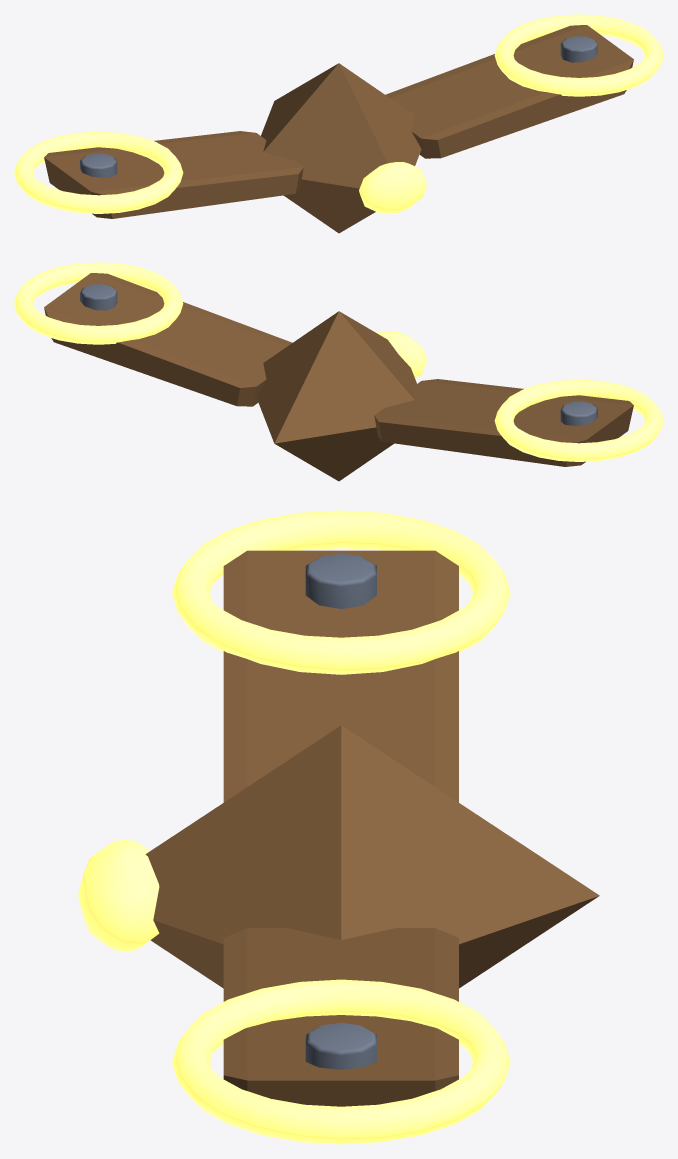
Rendered from Sentinel-Drone-v3.0.0.glb.
3 views of the same model, one above another, from view 1: azimuth 30°, elevation 25°; view 2: azimuth 150°, elevation 25°; view 3: azimuth 270°, elevation 25° (orthographic). The views are drawn at different scales.
Visible parts, largest first — view 1: core, wingL, wingR, rotorR, rotorL, eye, rotorHubL, rotorHubR; view 2: core, wingL, wingR, rotorR, rotorL, eye, rotorHubL, rotorHubR; view 3: core, wingR, wingL, rotorL, rotorR, eye, rotorHubR, rotorHubL.
Part boxes in pixels (x1=…): core: x1=261, y1=63, x2=421, y2=233; wingL: x1=385, y1=25, x2=633, y2=158; wingR: x1=44, y1=131, x2=303, y2=218; rotorR: x1=14, y1=131, x2=183, y2=213; rotorL: x1=494, y1=14, x2=663, y2=96; eye: x1=359, y1=162, x2=427, y2=213; rotorHubL: x1=560, y1=36, x2=597, y2=62; rotorHubR: x1=80, y1=153, x2=117, y2=177; core: x1=256, y1=311, x2=416, y2=481; wingL: x1=44, y1=273, x2=292, y2=406; wingR: x1=374, y1=379, x2=633, y2=466; rotorR: x1=494, y1=379, x2=663, y2=461; rotorL: x1=14, y1=262, x2=183, y2=344; eye: x1=376, y1=330, x2=427, y2=377; rotorHubL: x1=80, y1=284, x2=117, y2=310; rotorHubR: x1=560, y1=401, x2=597, y2=425; core: x1=145, y1=725, x2=599, y2=988; wingR: x1=223, y1=550, x2=458, y2=802; wingL: x1=223, y1=928, x2=458, y2=1106; rotorL: x1=172, y1=979, x2=510, y2=1144; rotorR: x1=172, y1=510, x2=510, y2=674; eye: x1=78, y1=839, x2=159, y2=951; rotorHubR: x1=305, y1=553, x2=376, y2=609; rotorHubL: x1=305, y1=1022, x2=376, y2=1069.
Size of the model in its own units: 3.08 by 0.8 by 1.11.
